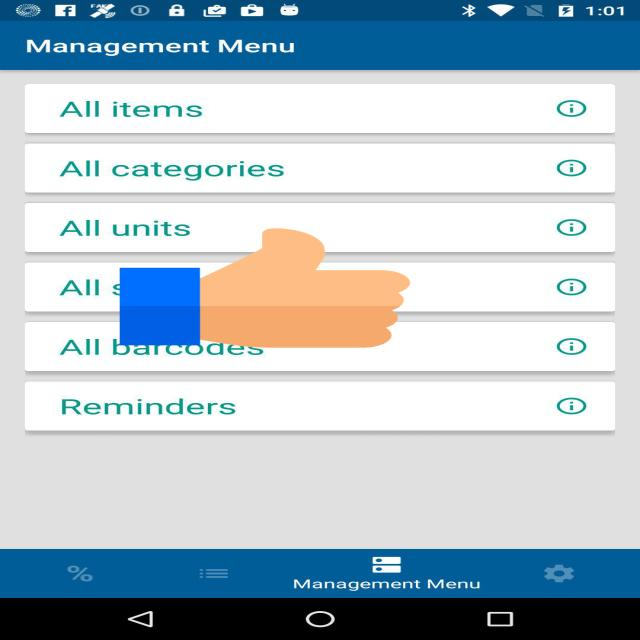privacy zuckering: (120, 225, 410, 351)
